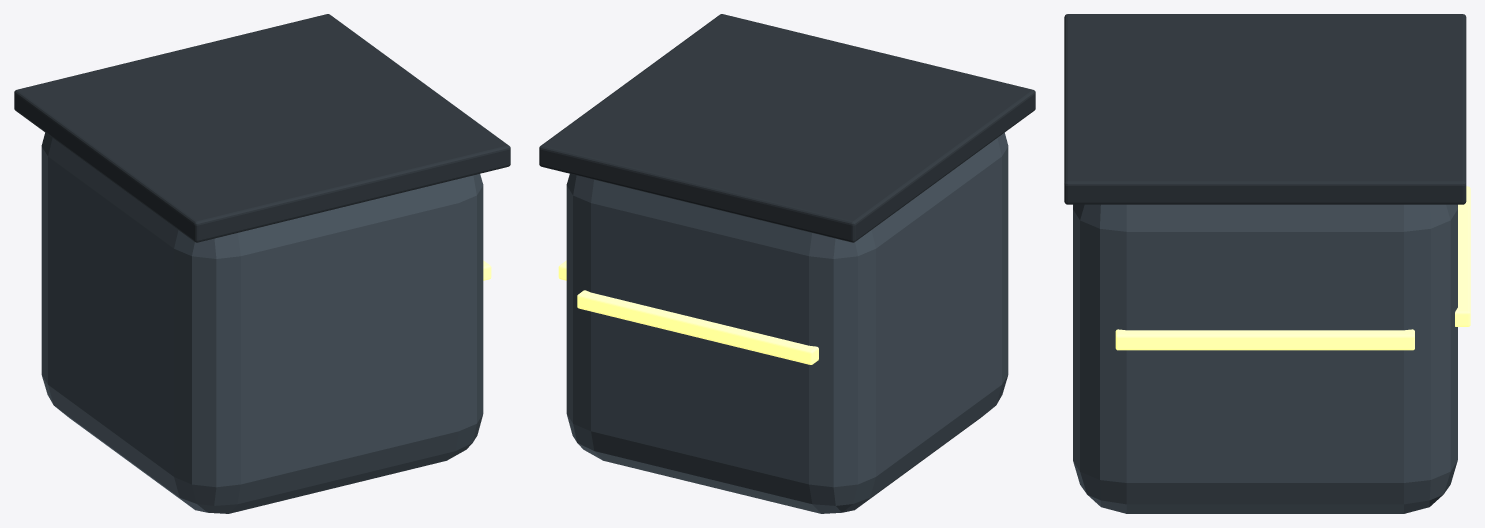
The model's file is prop_crate.glb.
3 views of the same model, side by side, from view 1: azimuth 30°, elevation 25°; view 2: azimuth 150°, elevation 25°; view 3: azimuth 270°, elevation 25° (orthographic). The views are drawn at different scales.
Parts seen in each view (by area): view 1: prop_crate; view 2: prop_crate; view 3: prop_crate.
Boxes of the visible parts, x1,y1,x2,y2 form: prop_crate: (14,14,510,513); prop_crate: (539,14,1035,513); prop_crate: (1064,14,1470,513).
Bounding box in the file's own units: 0.95 × 0.91 × 0.95.
